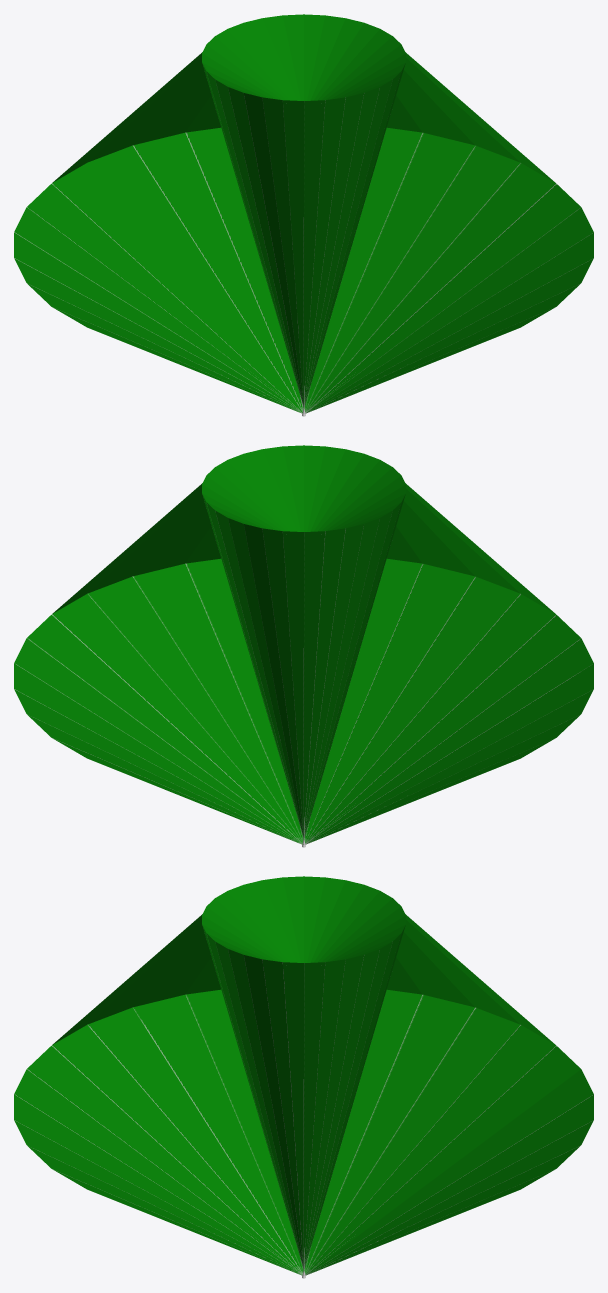
The picture shows the model from 3 angles, top to bottom: view 1: azimuth 30°, elevation 25°; view 2: azimuth 150°, elevation 25°; view 3: azimuth 270°, elevation 25°; orthographic projection.
Visible parts, largest first — view 1: algeomath; view 2: algeomath; view 3: algeomath.
Boxes of the visible parts, x1,y1,x2,y2 form: algeomath: (14, 14, 593, 416); algeomath: (14, 445, 593, 847); algeomath: (14, 876, 593, 1278).
Bounding box in the file's own units: 11.97 × 8.11 × 11.91.
1 material, 1 textured.
